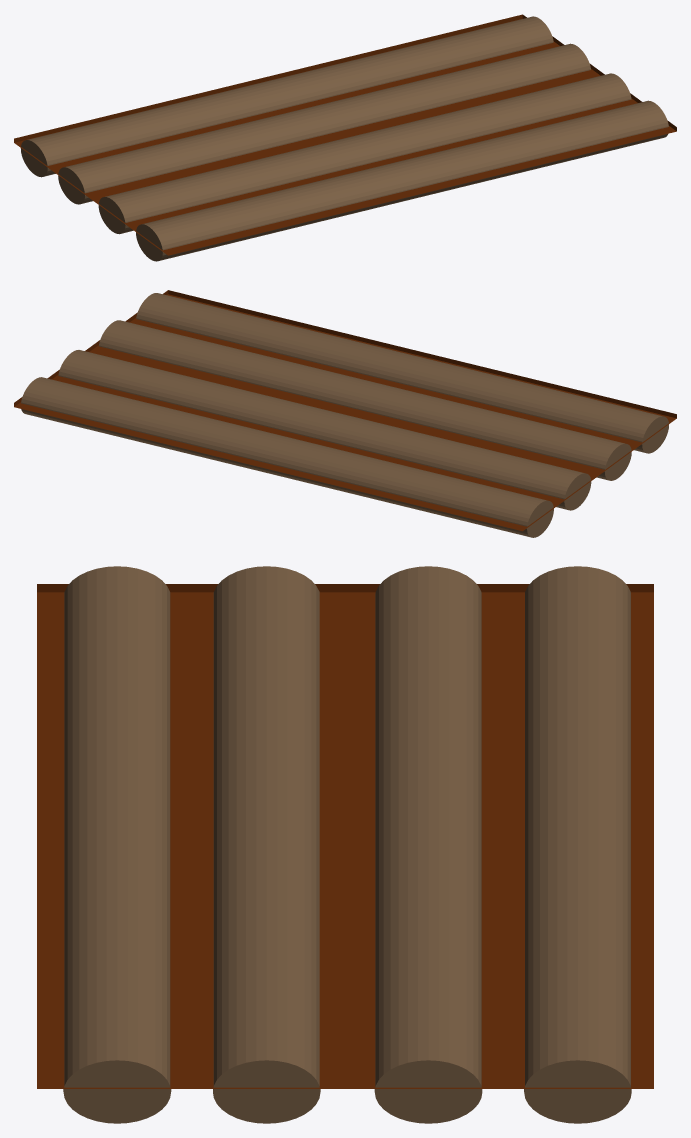
File: field.glb
3 renders of one model, top to bottom at view 1: azimuth 30°, elevation 25°; view 2: azimuth 150°, elevation 25°; view 3: azimuth 270°, elevation 25°, orthographic. The views are drawn at different scales.
Parts seen in each view (by area): view 1: Cylinder.003; view 2: Cylinder.003; view 3: Cylinder.003.
Part boxes in pixels (left/top/right/bottom): Cylinder.003: left=14, top=14, right=676, bottom=261; Cylinder.003: left=14, top=290, right=676, bottom=537; Cylinder.003: left=37, top=566, right=653, bottom=1123.
Bounding box in the file's own units: 21.82 × 1.3 × 11.45.
